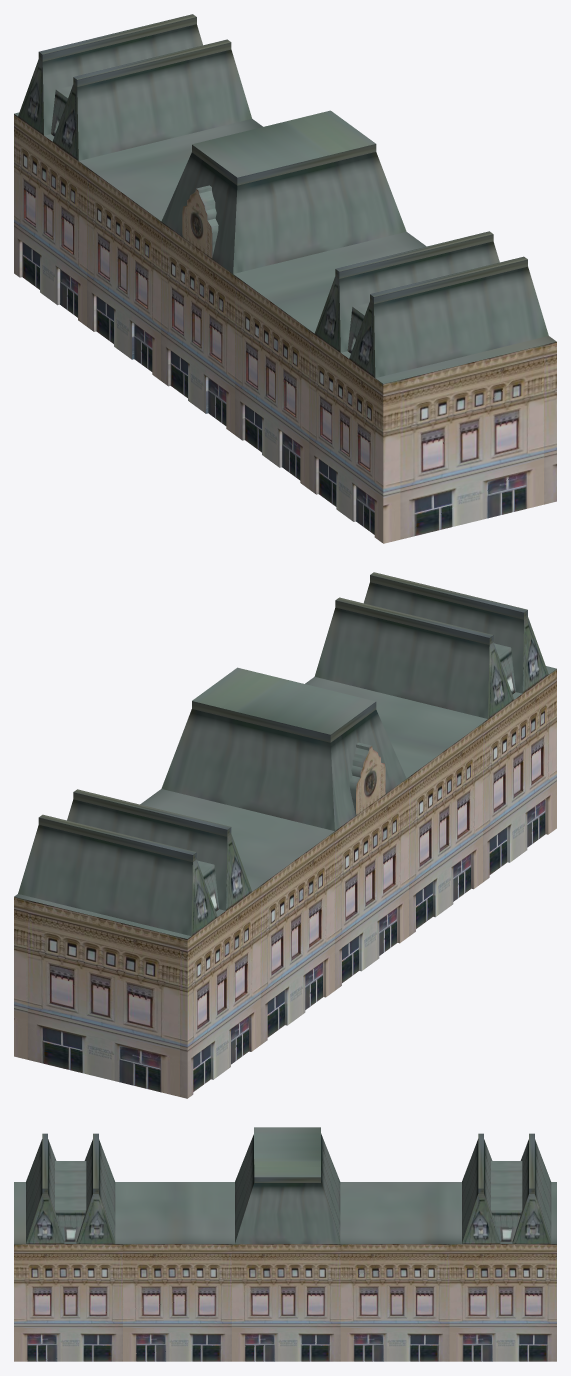
The model's file is Nikolskaya_7.fbx.
3 renders of one model, top to bottom at view 1: azimuth 30°, elevation 25°; view 2: azimuth 150°, elevation 25°; view 3: azimuth 270°, elevation 25°, orthographic. The views are drawn at different scales.
Visible parts, largest first — view 1: Nikolskaya_7; view 2: Nikolskaya_7; view 3: Nikolskaya_7.
Boxes of the visible parts, x1=… form: Nikolskaya_7: x1=14, y1=14, x2=556, y2=543; Nikolskaya_7: x1=14, y1=572, x2=556, y2=1098; Nikolskaya_7: x1=14, y1=1127, x2=556, y2=1361.
Size of the model in its own units: 1756 by 2343 by 6477.
1 material, 1 textured.
